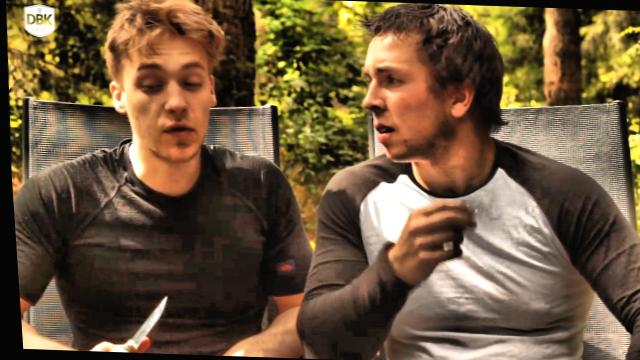knife: (102, 288, 178, 354)
